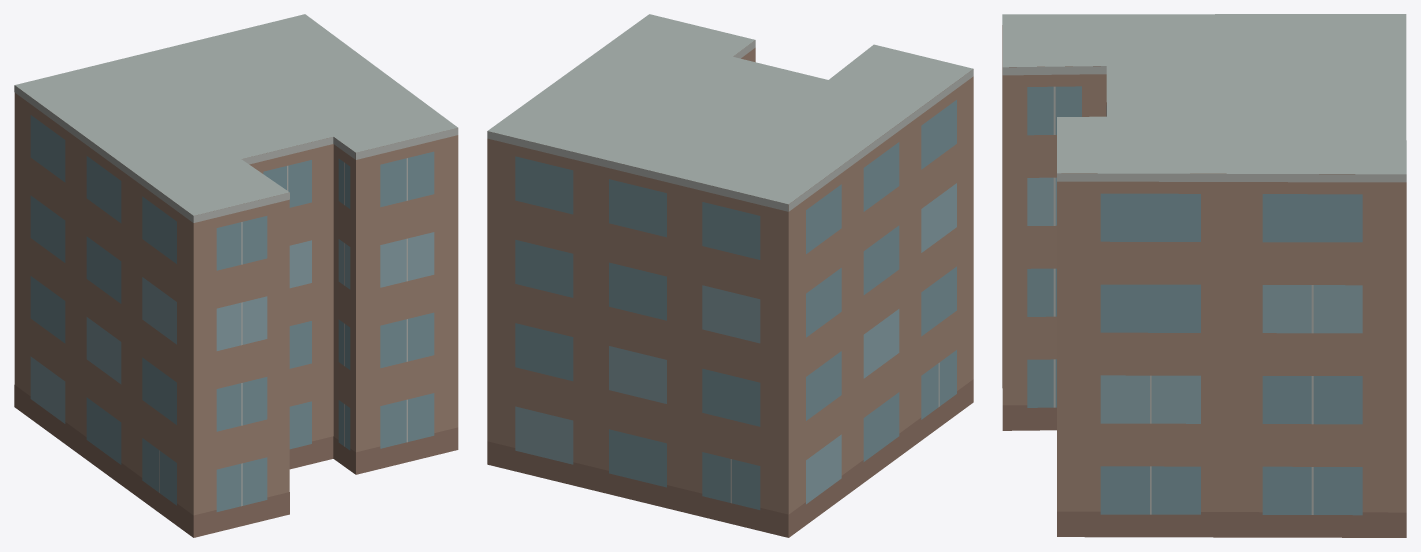
File: survey-upis-33026551.glb
3 views of the same model, side by side, from view 1: azimuth 30°, elevation 25°; view 2: azimuth 150°, elevation 25°; view 3: azimuth 270°, elevation 25° (orthographic). The views are drawn at different scales.
Visible parts, largest first — view 1: survey-upis-33026551.tmp; view 2: survey-upis-33026551.tmp; view 3: survey-upis-33026551.tmp.
Part boxes in pixels (x1,y1,x2,y2): survey-upis-33026551.tmp: (14,14,458,537); survey-upis-33026551.tmp: (487,14,973,537); survey-upis-33026551.tmp: (1002,14,1406,537).
Bounding box in the file's own units: 10.22 × 10.8 × 10.89.
